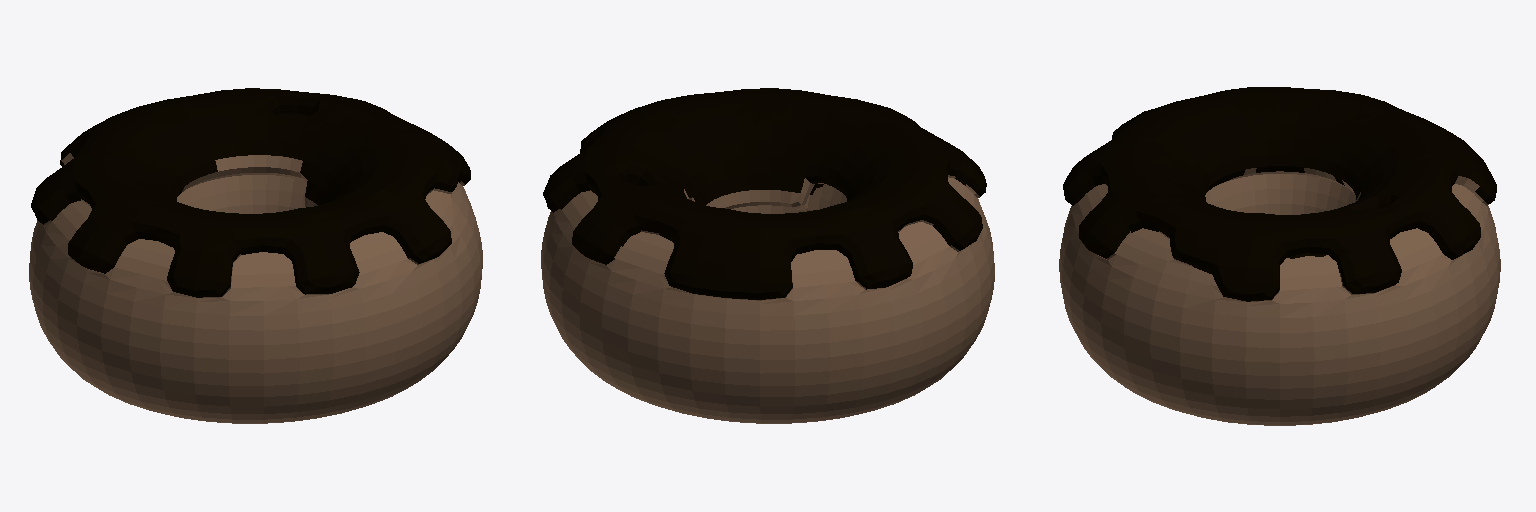
File: donut.obj
3 renders of one model, left to right at view 1: azimuth 30°, elevation 25°; view 2: azimuth 150°, elevation 25°; view 3: azimuth 270°, elevation 25°, orthographic.
Parts seen in each view (by area): view 1: pTorus1; view 2: pTorus1; view 3: pTorus1.
Part boxes in pixels (x1,y1,x2,y2): pTorus1: (29, 88, 482, 423); pTorus1: (541, 88, 994, 423); pTorus1: (1059, 87, 1500, 425).
Bounding box in the file's own units: 1.74 × 0.8354 × 1.68.